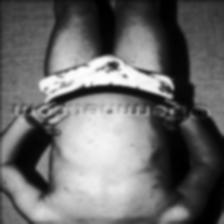Non-Cancerous Skin Condition: (46, 125, 176, 221)
